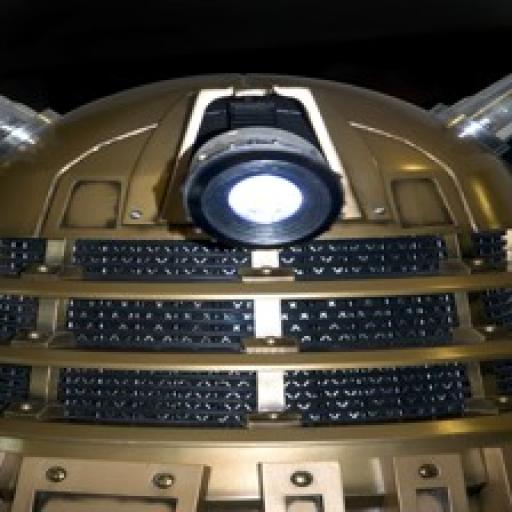dalek: (0, 81, 512, 512)
